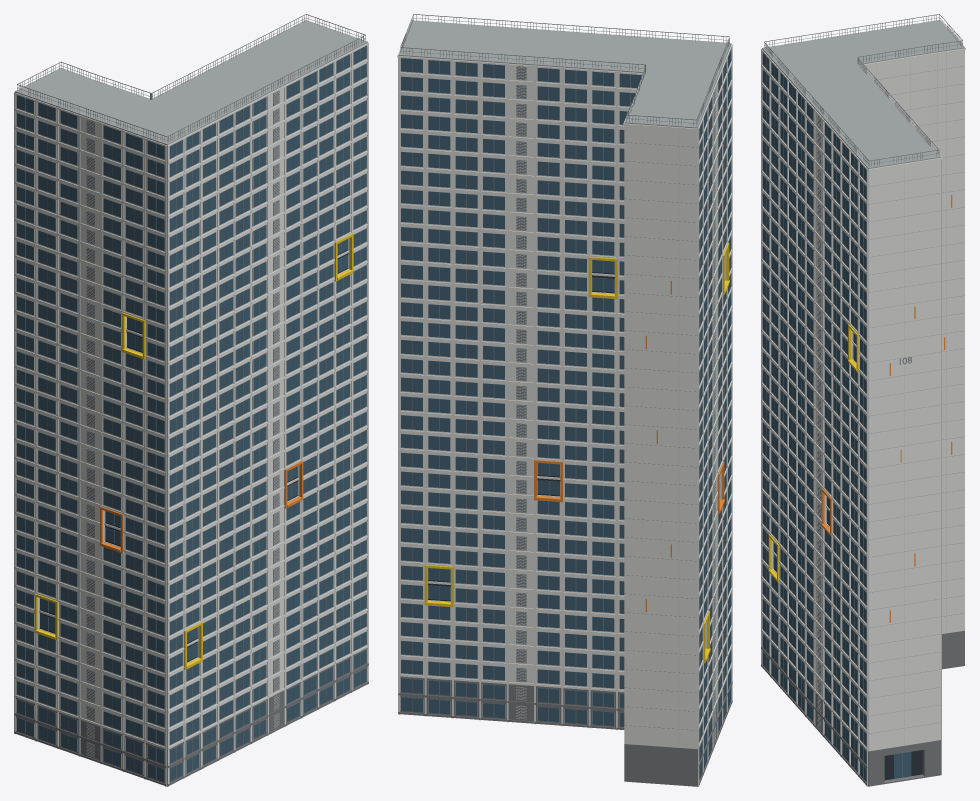
Rendered from bespoke-songpa-helio-city-108.glb.
3 renders of one model, left to right at view 1: azimuth 30°, elevation 25°; view 2: azimuth 150°, elevation 25°; view 3: azimuth 270°, elevation 25°, orthographic. The views are drawn at different scales.
Parts seen in each view (by area): view 1: Helio108_editable_Helio108_dark_blue_grey_glazing, Helio108_editable_Helio108_white_slab_frames, Helio108_editable_Helio108_grey_service_grille, Helio108_editable_Helio108_low_roof_deck, Helio108_editable_Helio108_dark_grey_twofloor_base, Helio108_editable_Helio108_blankwall_grey_panels, Helio108_editable_Helio108_yellow_projecting_rectangular_fra, Helio108_editable_Helio108_orange_narrow_accent; view 2: Helio108_editable_Helio108_white_slab_frames, Helio108_editable_Helio108_dark_blue_grey_glazing, Helio108_editable_Helio108_grey_service_grille, Helio108_editable_Helio108_low_roof_deck, Helio108_editable_Helio108_dark_grey_twofloor_base, Helio108_editable_Helio108_blankwall_grey_panels, Helio108_editable_Helio108_yellow_projecting_rectangular_fra, Helio108_editable_Helio108_orange_narrow_accent; view 3: Helio108_editable_Helio108_white_slab_frames, Helio108_editable_Helio108_dark_blue_grey_glazing, Helio108_editable_Helio108_low_roof_deck, Helio108_editable_Helio108_grey_service_grille, Helio108_editable_Helio108_dark_grey_twofloor_base, Helio108_editable_Helio108_blankwall_grey_panels, Helio108_editable_Helio108_yellow_projecting_rectangular_fra, Helio108_editable_Helio108_deep_shaded_frame_recess, Helio108_editable_Helio108_orange_narrow_accent.
Part boxes in pixels (x1,y1,x2,y2): Helio108_editable_Helio108_dark_blue_grey_glazing: (16,46,366,782); Helio108_editable_Helio108_white_slab_frames: (14,42,368,786); Helio108_editable_Helio108_grey_service_grille: (17,14,365,779); Helio108_editable_Helio108_low_roof_deck: (15,20,367,145); Helio108_editable_Helio108_dark_grey_twofloor_base: (14,648,368,786); Helio108_editable_Helio108_blankwall_grey_panels: (86,90,279,757); Helio108_editable_Helio108_yellow_projecting_rectangular_fra: (34,233,353,669); Helio108_editable_Helio108_orange_narrow_accent: (100,460,303,553); Helio108_editable_Helio108_white_slab_frames: (397,21,732,786); Helio108_editable_Helio108_dark_blue_grey_glazing: (401,49,731,779); Helio108_editable_Helio108_grey_service_grille: (400,14,729,776); Helio108_editable_Helio108_low_roof_deck: (398,20,731,128); Helio108_editable_Helio108_dark_grey_twofloor_base: (398,676,732,786); Helio108_editable_Helio108_blankwall_grey_panels: (516,66,716,747); Helio108_editable_Helio108_yellow_projecting_rectangular_fra: (424,243,729,663); Helio108_editable_Helio108_orange_narrow_accent: (534,281,724,612); Helio108_editable_Helio108_white_slab_frames: (761,21,965,786); Helio108_editable_Helio108_dark_blue_grey_glazing: (762,52,911,781); Helio108_editable_Helio108_low_roof_deck: (762,20,964,168); Helio108_editable_Helio108_grey_service_grille: (764,14,964,778); Helio108_editable_Helio108_dark_grey_twofloor_base: (761,630,964,786); Helio108_editable_Helio108_blankwall_grey_panels: (817,53,946,745); Helio108_editable_Helio108_yellow_projecting_rectangular_fra: (768,324,859,582); Helio108_editable_Helio108_deep_shaded_frame_recess: (773,341,922,780); Helio108_editable_Helio108_orange_narrow_accent: (821,195,952,622).
Size of the model in its own units: 50.78 by 99.2 by 29.44.
